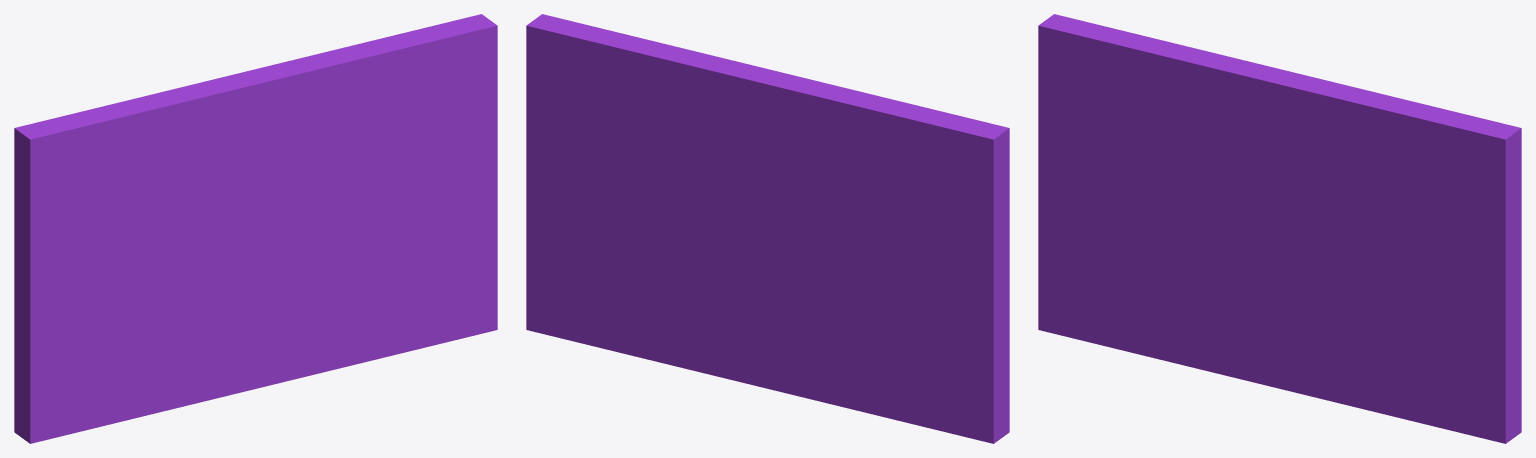
Rendered from Barrier_79_chunks.fbx.
The picture shows the model from 3 angles, left to right: view 1: azimuth 30°, elevation 25°; view 2: azimuth 150°, elevation 25°; view 3: azimuth 330°, elevation 25°; orthographic projection.
Parts seen in each view (by area): view 1: Barrier_79_1, Barrier_79_0, Barrier_79_5, Barrier_79_6, Barrier_79_4, Barrier_79_2, Barrier_79_3; view 2: Barrier_79_0, Barrier_79_1, Barrier_79_2, Barrier_79_6, Barrier_79_3, Barrier_79_4, Barrier_79_5; view 3: Barrier_79_1, Barrier_79_0, Barrier_79_5, Barrier_79_6, Barrier_79_4, Barrier_79_2, Barrier_79_3.
Part boxes in pixels (x1=…): Barrier_79_1: x1=259, y1=14, x2=497, y2=365; Barrier_79_0: x1=14, y1=217, x2=302, y2=443; Barrier_79_5: x1=21, y1=101, x2=206, y2=224; Barrier_79_6: x1=143, y1=38, x2=380, y2=171; Barrier_79_4: x1=168, y1=156, x2=307, y2=229; Barrier_79_2: x1=292, y1=313, x2=351, y2=377; Barrier_79_3: x1=14, y1=96, x2=142, y2=217; Barrier_79_0: x1=753, y1=207, x2=1009, y2=443; Barrier_79_1: x1=526, y1=14, x2=731, y2=341; Barrier_79_2: x1=576, y1=206, x2=775, y2=384; Barrier_79_6: x1=628, y1=43, x2=874, y2=173; Barrier_79_3: x1=820, y1=106, x2=1003, y2=234; Barrier_79_4: x1=698, y1=155, x2=858, y2=238; Barrier_79_5: x1=872, y1=94, x2=1009, y2=214; Barrier_79_1: x1=1267, y1=103, x2=1521, y2=443; Barrier_79_0: x1=1038, y1=104, x2=1310, y2=396; Barrier_79_5: x1=1038, y1=19, x2=1214, y2=178; Barrier_79_6: x1=1173, y1=45, x2=1419, y2=177; Barrier_79_4: x1=1176, y1=143, x2=1315, y2=226; Barrier_79_2: x1=1300, y1=327, x2=1360, y2=408; Barrier_79_3: x1=1048, y1=14, x2=1182, y2=47.
Size of the model in its own units: 462 by 288 by 27.2.
